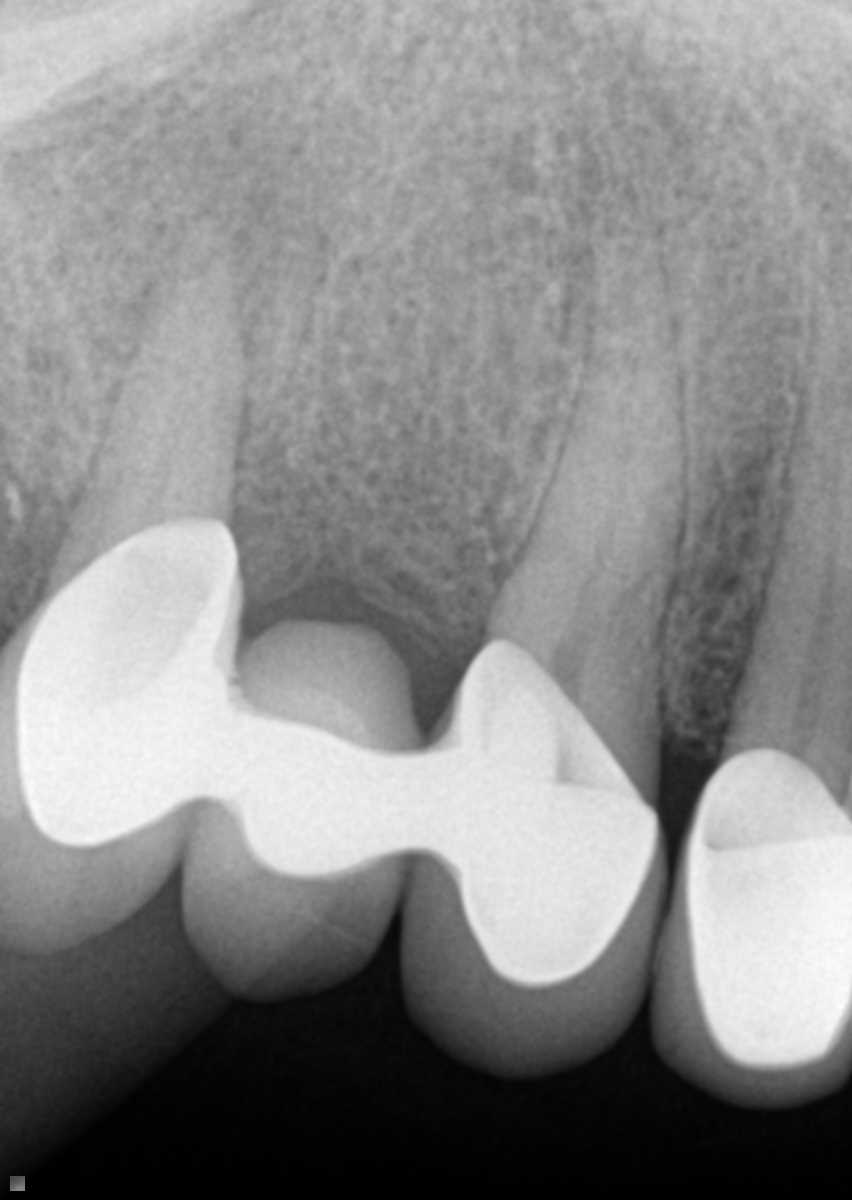Apical Lesion: (48, 78, 301, 356), (506, 42, 748, 229)
Main Canal: (540, 220, 638, 675), (780, 463, 841, 751), (137, 391, 186, 540)
Main Root: (481, 183, 687, 702), (715, 298, 852, 772), (55, 265, 242, 579)
